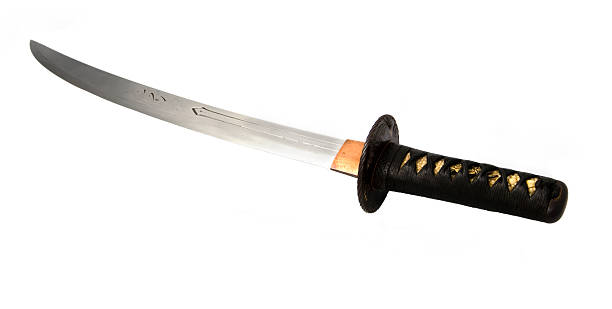knife: (28, 38, 569, 226)
